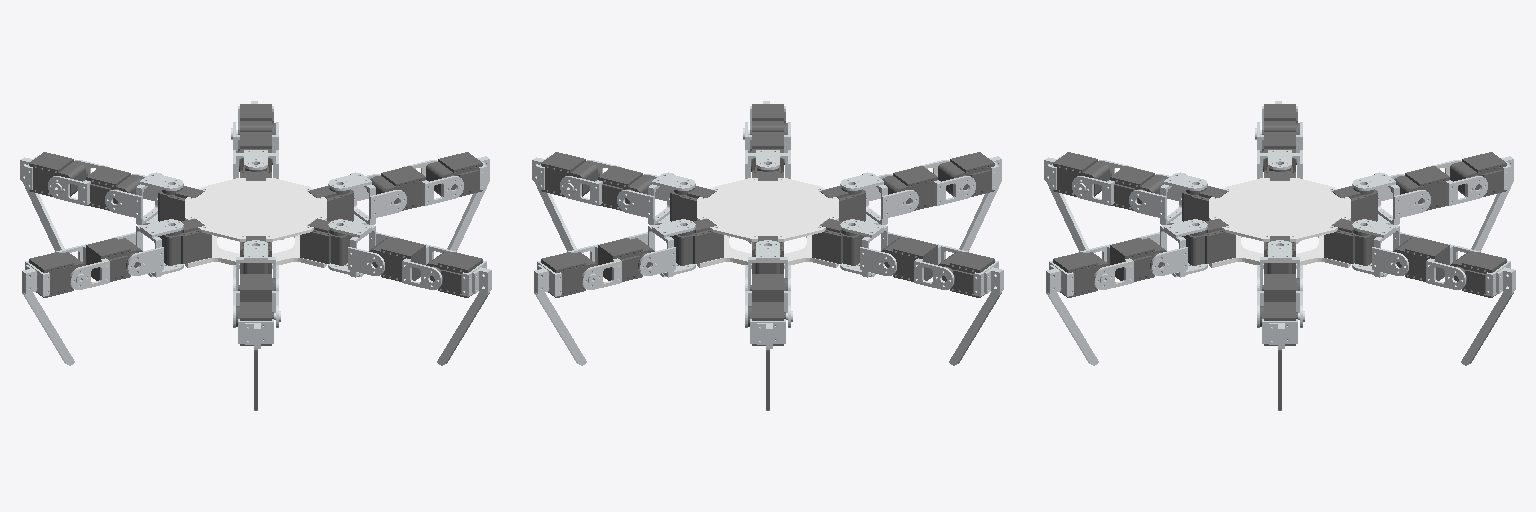
--- Facts derived from the render (not from the file) ---
3 views of the same robot in one strip: view 1: azimuth 30°, elevation 25°; view 2: azimuth 150°, elevation 25°; view 3: azimuth 270°, elevation 25° (orthographic).
Robot: Hexapod — 37 links, 36 joints (18 revolute, 18 fixed); root link Hexapod_Body; default pose: all joints at 0.
Visible links, largest first — view 1: Hexapod_Body, Leg_Six_Joint_One, Leg_Two_Joint_One, Leg_Three_Joint_One, Leg_Five_Joint_One, Leg_Five_Motor_One, Leg_Three_Motor_One, Leg_Three_Foot, Leg_Five_Foot, Leg_Two_Motor_Three, Leg_Six_Motor_Three, Leg_Three_Motor_Two (+21 smaller); view 2: Hexapod_Body, Leg_Two_Joint_One, Leg_Four_Joint_One, Leg_One_Joint_One, Leg_Five_Joint_One, Leg_One_Motor_One, Leg_Five_Motor_One, Leg_Five_Foot, Leg_One_Foot, Leg_Four_Motor_Three, Leg_Two_Motor_Three, Leg_Five_Motor_Two (+21 smaller); view 3: Hexapod_Body, Leg_Four_Joint_One, Leg_Six_Joint_One, Leg_One_Joint_One, Leg_Three_Joint_One, Leg_Three_Motor_One, Leg_One_Motor_One, Leg_One_Foot, Leg_Three_Foot, Leg_Six_Motor_Three, Leg_Four_Motor_Three, Leg_One_Motor_Two (+21 smaller).
Link boxes in pixels (<box>): Hexapod_Body: <box>185,178,326,268</box>; Leg_Six_Joint_One: <box>105,172,183,224</box>; Leg_Two_Joint_One: <box>328,172,406,224</box>; Leg_Three_Joint_One: <box>328,219,400,277</box>; Leg_Five_Joint_One: <box>111,219,183,277</box>; Leg_Five_Motor_One: <box>158,219,211,265</box>; Leg_Three_Motor_One: <box>300,219,353,265</box>; Leg_Three_Foot: <box>437,261,491,365</box>; Leg_Five_Foot: <box>22,261,74,365</box>; Leg_Two_Motor_Three: <box>426,152,482,196</box>; Leg_Six_Motor_Three: <box>29,152,87,196</box>; Leg_Three_Motor_Two: <box>369,238,425,281</box>; Hexapod_Body: <box>697,178,838,268</box>; Leg_Two_Joint_One: <box>617,172,695,224</box>; Leg_Four_Joint_One: <box>840,172,918,224</box>; Leg_One_Joint_One: <box>623,219,695,277</box>; Leg_Five_Joint_One: <box>840,219,912,277</box>; Leg_One_Motor_One: <box>670,219,723,265</box>; Leg_Five_Motor_One: <box>812,219,865,265</box>; Leg_Five_Foot: <box>949,261,1003,365</box>; Leg_One_Foot: <box>534,261,586,365</box>; Leg_Four_Motor_Three: <box>938,152,994,196</box>; Leg_Two_Motor_Three: <box>541,152,599,196</box>; Leg_Five_Motor_Two: <box>881,238,937,281</box>; Hexapod_Body: <box>1209,178,1350,268</box>; Leg_Four_Joint_One: <box>1129,172,1207,224</box>; Leg_Six_Joint_One: <box>1352,172,1430,224</box>; Leg_One_Joint_One: <box>1352,219,1424,277</box>; Leg_Three_Joint_One: <box>1135,219,1207,277</box>; Leg_Three_Motor_One: <box>1182,219,1235,265</box>; Leg_One_Motor_One: <box>1324,219,1377,265</box>; Leg_One_Foot: <box>1461,261,1515,365</box>; Leg_Three_Foot: <box>1046,261,1098,365</box>; Leg_Six_Motor_Three: <box>1450,152,1506,196</box>; Leg_Four_Motor_Three: <box>1053,152,1111,196</box>; Leg_One_Motor_Two: <box>1393,238,1449,281</box>.
Bounding box of the posed robot: 0.5546 × 0.4858 × 0.131 m (x, y, z).
37 mesh visuals loaded from 37 distinct referenced files (37 binary STL).

URDF robot description (Hexapod):
<?xml version="1.0" encoding="utf-8"?>
<!-- This URDF was automatically created by SolidWorks to URDF Exporter! Originally created by Stephen Brawner ([email redacted]) 
     Commit Version: 1.6.0-4-g7f85cfe  Build Version: 1.6.7995.38578
     For more information, please see http://wiki.ros.org/sw_urdf_exporter -->
<robot
  name="Hexapod">
  <link
    name="Hexapod_Body">
    <inertial>
      <origin
        xyz="0.000467300641731394 0.000480640804340723 -0.0222927088725361"
        rpy="0 0 0" />
      <mass
        value="0.252991709249718" />
      <inertia
        ixx="0.0003353228755392"
        ixy="-3.5624522231311E-06"
        ixz="9.13929498933835E-22"
        iyy="0.000331209310039199"
        iyz="-2.06880232664108E-21"
        izz="0.000662153479951832" />
    </inertial>
    <visual>
      <origin
        xyz="0 0 0"
        rpy="0 0 0" />
      <geometry>
        <mesh
          filename="package://Hexapod/meshes/Hexapod_Body.STL" />
      </geometry>
      <material
        name="a">
        <color
          rgba="1 1 1 1" />
      </material>
    </visual>
    <collision>
      <origin
        xyz="0 0 0"
        rpy="0 0 0" />
      <geometry>
        <mesh
          filename="package://Hexapod/meshes/Hexapod_Body.STL" />
      </geometry>
    </collision>
  </link>
  <link
    name="Leg_One_Motor_One">
    <inertial>
      <origin
        xyz="0.000584019854882684 0.0171270760121718 8.74251500962431E-06"
        rpy="0 0 0" />
      <mass
        value="0.0507410999571037" />
      <inertia
        ixx="8.72453812867062E-06"
        ixy="2.91404732674268E-07"
        ixz="4.76442069400232E-09"
        iyy="1.36174955983004E-05"
        iyz="4.99976360499878E-10"
        izz="1.50547493857864E-05" />
    </inertial>
    <visual>
      <origin
        xyz="0 0 0"
        rpy="0 0 0" />
      <geometry>
        <mesh
          filename="package://Hexapod/meshes/Leg_One_Motor_One.STL" />
      </geometry>
      <material
        name="b">
        <color
          rgba="0.501960784313725 0.501960784313725 0.501960784313725 1" />
      </material>
    </visual>
    <collision>
      <origin
        xyz="0 0 0"
        rpy="0 0 0" />
      <geometry>
        <mesh
          filename="package://Hexapod/meshes/Leg_One_Motor_One.STL" />
      </geometry>
    </collision>
  </link>
  <joint
    name="Body_Motor_One"
    type="fixed">
    <origin
      xyz="0.0430999999999997 0.0748245948869756 -0.035"
      rpy="1.5707963267949 0 -2.09439510239319" />
    <parent
      link="Hexapod_Body" />
    <child
      link="Leg_One_Motor_One" />
    <axis
      xyz="0 0 0" />
  </joint>
  <link
    name="Leg_One_Joint_One">
    <inertial>
      <origin
        xyz="-0.021 -0.0275000000000001 -2.77555756156289E-17"
        rpy="0 0 0" />
      <mass
        value="0.0389043786122597" />
      <inertia
        ixx="7.22067461734331E-06"
        ixy="-8.39372041984293E-23"
        ixz="-7.02883961008259E-22"
        iyy="6.08873929472342E-06"
        iyz="-1.69032215963396E-22"
        izz="7.22067461734331E-06" />
    </inertial>
    <visual>
      <origin
        xyz="0 0 0"
        rpy="0 0 0" />
      <geometry>
        <mesh
          filename="package://Hexapod/meshes/Leg_One_Joint_One.STL" />
      </geometry>
      <material
        name="c">
        <color
          rgba="0.898039215686275 0.917647058823529 0.929411764705882 1" />
      </material>
    </visual>
    <collision>
      <origin
        xyz="0 0 0"
        rpy="0 0 0" />
      <geometry>
        <mesh
          filename="package://Hexapod/meshes/Leg_One_Joint_One.STL" />
      </geometry>
    </collision>
  </link>
  <joint
    name="Motor_One_Joint_One"
    type="revolute">
    <origin
      xyz="-0.0135 0.037 0"
      rpy="3.14159265358979 0 1.5707963267949" />
    <parent
      link="Leg_One_Motor_One" />
    <child
      link="Leg_One_Joint_One" />
    <axis
      xyz="1 0 0" />
    <limit
      lower="-0.87"
      upper="0.87"
      effort="1.5"
      velocity="6" />
  </joint>
  <link
    name="Leg_One_Motor_Two">
    <inertial>
      <origin
        xyz="0.0140840198548827 -0.0198729239878282 8.74251500962431E-06"
        rpy="0 0 0" />
      <mass
        value="0.0507410999571037" />
      <inertia
        ixx="8.7245381286706E-06"
        ixy="2.91404732674267E-07"
        ixz="4.76442069400002E-09"
        iyy="1.36174955983004E-05"
        iyz="4.99976360499654E-10"
        izz="1.50547493857864E-05" />
    </inertial>
    <visual>
      <origin
        xyz="0 0 0"
        rpy="0 0 0" />
      <geometry>
        <mesh
          filename="package://Hexapod/meshes/Leg_One_Motor_Two.STL" />
      </geometry>
      <material
        name="d">
        <color
          rgba="0.501960784313725 0.501960784313725 0.501960784313725 1" />
      </material>
    </visual>
    <collision>
      <origin
        xyz="0 0 0"
        rpy="0 0 0" />
      <geometry>
        <mesh
          filename="package://Hexapod/meshes/Leg_One_Motor_Two.STL" />
      </geometry>
    </collision>
  </link>
  <joint
    name="Joint_One_Motor_One"
    type="revolute">
    <origin
      xyz="-0.021 -0.055 -0.021"
      rpy="-1.5707963267949 0 -1.5707963267949" />
    <parent
      link="Leg_One_Joint_One" />
    <child
      link="Leg_One_Motor_Two" />
    <axis
      xyz="0 -1 0" />
    <limit
      lower="-1.75"
      upper="1.75"
      effort="1.5"
      velocity="6" />
  </joint>
  <link
    name="Leg_One_Joint_Two">
    <inertial>
      <origin
        xyz="-0.0252678246613521 -0.00384428347669541 -3.60822483003176E-16"
        rpy="0 0 0" />
      <mass
        value="0.0208734115397715" />
      <inertia
        ixx="4.66379780614639E-06"
        ixy="-3.86041295515387E-22"
        ixz="-4.72913102230163E-23"
        iyy="1.08843805914059E-06"
        iyz="-1.67313754143348E-22"
        izz="3.74567124038541E-06" />
    </inertial>
    <visual>
      <origin
        xyz="0 0 0"
        rpy="0 0 0" />
      <geometry>
        <mesh
          filename="package://Hexapod/meshes/Leg_One_Joint_Two.STL" />
      </geometry>
      <material
        name="e">
        <color
          rgba="0.898039215686275 0.917647058823529 0.929411764705882 1" />
      </material>
    </visual>
    <collision>
      <origin
        xyz="0 0 0"
        rpy="0 0 0" />
      <geometry>
        <mesh
          filename="package://Hexapod/meshes/Leg_One_Joint_Two.STL" />
      </geometry>
    </collision>
  </link>
  <joint
    name="Motor_Two_Joint_One"
    type="fixed">
    <origin
      xyz="0.0505 -0.042 0"
      rpy="3.14159265358979 0 -1.5707963267949" />
    <parent
      link="Leg_One_Motor_Two" />
    <child
      link="Leg_One_Joint_Two" />
    <axis
      xyz="0 0 0" />
  </joint>
  <link
    name="Leg_One_Motor_Three">
    <inertial>
      <origin
        xyz="0.0140840198548827 -0.0198729239878282 8.74251500965206E-06"
        rpy="0 0 0" />
      <mass
        value="0.0507410999571036" />
      <inertia
        ixx="8.72453812867059E-06"
        ixy="2.91404732674268E-07"
        ixz="4.76442069399796E-09"
        iyy="1.36174955983004E-05"
        iyz="4.99976360499304E-10"
        izz="1.50547493857863E-05" />
    </inertial>
    <visual>
      <origin
        xyz="0 0 0"
        rpy="0 0 0" />
      <geometry>
        <mesh
          filename="package://Hexapod/meshes/Leg_One_Motor_Three.STL" />
      </geometry>
      <material
        name="f">
        <color
          rgba="0.501960784313725 0.501960784313725 0.501960784313725 1" />
      </material>
    </visual>
    <collision>
      <origin
        xyz="0 0 0"
        rpy="0 0 0" />
      <geometry>
        <mesh
          filename="package://Hexapod/meshes/Leg_One_Motor_Three.STL" />
      </geometry>
    </collision>
  </link>
  <joint
    name="Joint_Two_Motor_One"
    type="revolute">
    <origin
      xyz="0 -0.0175 0"
      rpy="0 0 -1.5707963267949" />
    <parent
      link="Leg_One_Joint_Two" />
    <child
      link="Leg_One_Motor_Three" />
    <axis
      xyz="0 1 0" />
    <limit
      lower="-1.2"
      upper="1.75"
      effort="1.5"
      velocity="6" />
  </joint>
  <link
    name="Leg_One_Foot">
    <inertial>
      <origin
        xyz="7.01124950652221E-05 -0.0388270396002833 0.00702654358929466"
        rpy="0 0 0" />
      <mass
        value="0.0294537667841514" />
      <inertia
        ixx="2.35841025364992E-05"
        ixy="-3.24513193999939E-21"
        ixz="-4.96335868122319E-08"
        iyy="6.39638877905909E-06"
        iyz="8.96077570377951E-06"
        izz="2.04496277534295E-05" />
    </inertial>
    <visual>
      <origin
        xyz="0 0 0"
        rpy="0 0 0" />
      <geometry>
        <mesh
          filename="package://Hexapod/meshes/Leg_One_Foot.STL" />
      </geometry>
      <material
        name="g">
        <color
          rgba="0.898039215686275 0.917647058823529 0.929411764705882 1" />
      </material>
    </visual>
    <collision>
      <origin
        xyz="0 0 0"
        rpy="0 0 0" />
      <geometry>
        <mesh
          filename="package://Hexapod/meshes/Leg_One_Foot.STL" />
      </geometry>
    </collision>
  </link>
  <joint
    name="Motor_Three_Foot_One"
    type="fixed">
    <origin
      xyz="0.0415 -0.021 -0.0125"
      rpy="-1.5708 0 1.5708" />
    <parent
      link="Leg_One_Motor_Three" />
    <child
      link="Leg_One_Foot" />
    <axis
      xyz="0 0 0" />
  </joint>
  <link
    name="Leg_Two_Motor_One">
    <inertial>
      <origin
        xyz="0.000584019854882684 0.0171270760121718 8.74251500965206E-06"
        rpy="0 0 0" />
      <mass
        value="0.0507410999571037" />
      <inertia
        ixx="8.72453812867061E-06"
        ixy="2.91404732674266E-07"
        ixz="4.76442069400188E-09"
        iyy="1.36174955983004E-05"
        iyz="4.9997636050019E-10"
        izz="1.50547493857864E-05" />
    </inertial>
    <visual>
      <origin
        xyz="0 0 0"
        rpy="0 0 0" />
      <geometry>
        <mesh
          filename="package://Hexapod/meshes/Leg_Two_Motor_One.STL" />
      </geometry>
      <material
        name="b">
        <color
          rgba="0.501960784313725 0.501960784313725 0.501960784313725 1" />
      </material>
    </visual>
    <collision>
      <origin
        xyz="0 0 0"
        rpy="0 0 0" />
      <geometry>
        <mesh
          filename="package://Hexapod/meshes/Leg_Two_Motor_One.STL" />
      </geometry>
    </collision>
  </link>
  <joint
    name="Body_Motor_Two"
    type="fixed">
    <origin
      xyz="0.08625 8.66025403784415E-05 -0.035"
      rpy="1.5707963267949 0 3.14159265358979" />
    <parent
      link="Hexapod_Body" />
    <child
      link="Leg_Two_Motor_One" />
    <axis
      xyz="0 0 0" />
  </joint>
  <link
    name="Leg_Two_Joint_One">
    <inertial>
      <origin
        xyz="-0.021 -0.0275 1.38777878078145E-17"
        rpy="0 0 0" />
      <mass
        value="0.0389043786122597" />
      <inertia
        ixx="7.2206746173433E-06"
        ixy="-1.02503950253765E-21"
        ixz="3.59151891736246E-22"
        iyy="6.08873929472342E-06"
        iyz="-1.05879118406788E-21"
        izz="7.2206746173433E-06" />
    </inertial>
    <visual>
      <origin
        xyz="0 0 0"
        rpy="0 0 0" />
      <geometry>
        <mesh
          filename="package://Hexapod/meshes/Leg_Two_Joint_One.STL" />
      </geometry>
      <material
        name="c">
        <color
          rgba="0.898039215686275 0.917647058823529 0.929411764705882 1" />
      </material>
    </visual>
    <collision>
      <origin
        xyz="0 0 0"
        rpy="0 0 0" />
      <geometry>
        <mesh
          filename="package://Hexapod/meshes/Leg_Two_Joint_One.STL" />
      </geometry>
    </collision>
  </link>
  <joint
    name="Motor_One_Joint_Two"
    type="revolute">
    <origin
      xyz="-0.0135 0.037 0"
      rpy="3.14159265358979 0 1.5707963267949" />
    <parent
      link="Leg_Two_Motor_One" />
    <child
      link="Leg_Two_Joint_One" />
    <axis
      xyz="1 0 0" />
    <limit
      lower="-0.87"
      upper="0.87"
      effort="1.5"
      velocity="6" />
  </joint>
  <link
    name="Leg_Two_Motor_Two">
    <inertial>
      <origin
        xyz="0.0140840198548827 -0.0198729239878281 8.74251500963819E-06"
        rpy="0 0 0" />
      <mass
        value="0.0507410999571037" />
      <inertia
        ixx="8.7245381286706E-06"
        ixy="2.91404732674251E-07"
        ixz="4.76442069400182E-09"
        iyy="1.36174955983004E-05"
        iyz="4.99976360499683E-10"
        izz="1.50547493857863E-05" />
    </inertial>
    <visual>
      <origin
        xyz="0 0 0"
        rpy="0 0 0" />
      <geometry>
        <mesh
          filename="package://Hexapod/meshes/Leg_Two_Motor_Two.STL" />
      </geometry>
      <material
        name="d">
        <color
          rgba="0.501960784313725 0.501960784313725 0.501960784313725 1" />
      </material>
    </visual>
    <collision>
      <origin
        xyz="0 0 0"
        rpy="0 0 0" />
      <geometry>
        <mesh
          filename="package://Hexapod/meshes/Leg_Two_Motor_Two.STL" />
      </geometry>
    </collision>
  </link>
  <joint
    name="Joint_One_Motor_Two"
    type="revolute">
    <origin
      xyz="-0.021 -0.055 -0.021"
      rpy="-1.5707963267949 0 -1.5707963267949" />
    <parent
      link="Leg_Two_Joint_One" />
    <child
      link="Leg_Two_Motor_Two" />
    <axis
      xyz="0 -1 0" />
    <limit
      lower="-1.75"
      upper="1.75"
      effort="1.5"
      velocity="6" />
  </joint>
  <link
    name="Leg_Two_Joint_Two">
    <inertial>
      <origin
        xyz="-0.016732175338648 0.00384428347669485 -2.1094237467878E-15"
        rpy="0 0 0" />
      <mass
        value="0.0208734115397716" />
      <inertia
        ixx="4.66379780614641E-06"
        ixy="-2.01170324972896E-21"
        ixz="-8.93614464730896E-22"
        iyy="1.0884380591406E-06"
        iyz="1.28970696947256E-20"
        izz="3.74567124038542E-06" />
    </inertial>
    <visual>
      <origin
        xyz="0 0 0"
        rpy="0 0 0" />
      <geometry>
        <mesh
          filename="package://Hexapod/meshes/Leg_Two_Joint_Two.STL" />
      </geometry>
      <material
        name="e">
        <color
          rgba="0.898039215686275 0.917647058823529 0.929411764705882 1" />
      </material>
    </visual>
    <collision>
      <origin
        xyz="0 0 0"
        rpy="0 0 0" />
      <geometry>
        <mesh
          filename="package://Hexapod/meshes/Leg_Two_Joint_Two.STL" />
      </geometry>
    </collision>
  </link>
  <joint
    name="Motor_Two_Joint_Two"
    type="fixed">
    <origin
      xyz="0.0505000000000004 0 0"
      rpy="-3.14159265358979 0 1.5707963267949" />
    <parent
      link="Leg_Two_Motor_Two" />
    <child
      link="Leg_Two_Joint_Two" />
    <axis
      xyz="0 0 0" />
  </joint>
  <link
    name="Leg_Two_Motor_Three">
    <inertial>
      <origin
        xyz="0.0140840198548827 -0.0198729239878282 8.74251500963819E-06"
        rpy="0 0 0" />
      <mass
        value="0.0507410999571037" />
      <inertia
        ixx="8.72453812867061E-06"
        ixy="2.91404732674272E-07"
        ixz="4.7644206939968E-09"
        iyy="1.36174955983004E-05"
        iyz="4.9997636050038E-10"
        izz="1.50547493857864E-05" />
    </inertial>
    <visual>
      <origin
        xyz="0 0 0"
        rpy="0 0 0" />
      <geometry>
        <mesh
          filename="package://Hexapod/meshes/Leg_Two_Motor_Three.STL" />
      </geometry>
      <material
        name="f">
        <color
          rgba="0.501960784313725 0.501960784313725 0.501960784313725 1" />
      </material>
    </visual>
    <collision>
      <origin
        xyz="0 0 0"
        rpy="0 0 0" />
      <geometry>
        <mesh
          filename="package://Hexapod/meshes/Leg_Two_Motor_Three.STL" />
      </geometry>
    </collision>
  </link>
  <joint
    name="Joint_Two_Motor_Two"
    type="revolute">
    <origin
      xyz="-0.0419999999999999 0.0174999999999996 0"
      rpy="0 0 1.5707963267949" />
    <parent
      link="Leg_Two_Joint_Two" />
    <child
      link="Leg_Two_Motor_Three" />
    <axis
      xyz="0 1 0" />
    <limit
      lower="-1.2"
      upper="1.75"
      effort="1.5"
      velocity="6" />
  </joint>
  <link
    name="Leg_Two_Foot">
    <inertial>
      <origin
        xyz="0.00557011249506531 -0.0148270396002834 0.00702654358929461"
        rpy="0 0 0" />
      <mass
        value="0.0294537667841514" />
      <inertia
        ixx="2.35841025364993E-05"
        ixy="2.37169225231204E-20"
        ixz="-4.96335868122461E-08"
        iyy="6.39638877905909E-06"
        iyz="8.96077570377951E-06"
        izz="2.04496277534295E-05" />
    </inertial>
    <visual>
      <origin
        xyz="0 0 0"
        rpy="0 0 0" />
      <geometry>
        <mesh
          filename="package://Hexapod/meshes/Leg_Two_Foot.STL" />
      </geometry>
      <material
        name="g">
        <color
          rgba="0.898039215686275 0.917647058823529 0.929411764705882 1" />
      </material>
    </visual>
    <collision>
      <origin
        xyz="0 0 0"
        rpy="0 0 0" />
      <geometry>
        <mesh
          filename="package://Hexapod/meshes/Leg_Two_Foot.STL" />
      </geometry>
    </collision>
  </link>
  <joint
    name="Motor_Three_Foot_Two"
    type="fixed">
    <origin
      xyz="0.0415 -0.0265 0.0115"
      rpy="-1.5708 0 1.5708" />
    <parent
      link="Leg_Two_Motor_Three" />
    <child
      link="Leg_Two_Foot" />
    <axis
      xyz="0 0 0" />
  </joint>
  <link
    name="Leg_Three_Motor_One">
    <inertial>
      <origin
        xyz="0.000584019854882684 0.0171270760121718 8.74251500963819E-06"
        rpy="0 0 0" />
      <mass
        value="0.0507410999571037" />
      <inertia
        ixx="8.7245381286706E-06"
        ixy="2.91404732674265E-07"
        ixz="4.76442069399277E-09"
        iyy="1.36174955983004E-05"
        iyz="4.9997636050019E-10"
        izz="1.50547493857863E-05" />
    </inertial>
    <visual>
      <origin
        xyz="0 0 0"
        rpy="0 0 0" />
      <geometry>
        <mesh
          filename="package://Hexapod/meshes/Leg_Three_Motor_One.STL" />
      </geometry>
      <material
        name="b">
        <color
          rgba="0.501960784313725 0.501960784313725 0.501960784313725 1" />
      </material>
    </visual>
    <collision>
      <origin
        xyz="0 0 0"
        rpy="0 0 0" />
      <geometry>
        <mesh
          filename="package://Hexapod/meshes/Leg_Three_Motor_One.STL" />
      </geometry>
    </collision>
  </link>
  <joint
    name="Body_Motor_Three"
    type="fixed">
    <origin
      xyz="0.0430999999999998 -0.0746513898062187 -0.035"
      rpy="1.5707963267949 0 2.09439510239319" />
    <parent
      link="Hexapod_Body" />
    <child
      link="Leg_Three_Motor_One" />
    <axis
      xyz="0 0 0" />
  </joint>
  <link
    name="Leg_Three_Joint_One">
    <inertial>
      <origin
        xyz="-0.021 -0.0274999999999999 1.2490009027033E-16"
        rpy="0 0 0" />
      <mass
        value="0.0389043786122597" />
      <inertia
        ixx="7.22067461734331E-06"
        ixy="1.10828261625725E-21"
        ixz="-4.62402341941E-22"
        iyy="6.08873929472343E-06"
        iyz="1.48230765769503E-21"
        izz="7.22067461734331E-06" />
    </inertial>
    <visual>
      <origin
        xyz="0 0 0"
        rpy="0 0 0" />
      <geometry>
        <mesh
          filename="package://Hexapod/meshes/Leg_Three_Joint_One.STL" />
      </geometry>
      <material
        name="c">
        <color
          rgba="0.898039215686275 0.917647058823529 0.929411764705882 1" />
      </material>
    </visual>
    <collision>
      <origin
        xyz="0 0 0"
        rpy="0 0 0" />
      <geometry>
        <mesh
          filename="package://Hexapod/meshes/Leg_Three_Joint_One.STL" />
      </geometry>
    </collision>
  </link>
  <joint
    name="Motor_One_Joint_Three"
    type="revolute">
    <origin
      xyz="-0.0135 0.037 0"
      rpy="3.14159265358979 0 1.5707963267949" />
    <parent
      link="Leg_Three_Motor_One" />
    <child
      link="Leg_Three_Joint_One" />
    <axis
      xyz="1 0 0" />
    <limit
      lower="-0.87"
      upper="0.87"
      effort="1.5"
      velocity="6" />
  </joint>
  <link
    name="Leg_Three_Motor_Two">
    <inertial>
      <origin
        xyz="0.0140840198548827 -0.0198729239878281 8.74251500965206E-06"
        rpy="0 0 0" />
      <mass
        value="0.0507410999571037" />
      <inertia
        ixx="8.72453812867062E-06"
        ixy="2.91404732674259E-07"
        ixz="4.76442069399944E-09"
        iyy="1.36174955983004E-05"
        iyz="4.99976360500253E-10"
        izz="1.50547493857864E-05" />
    </inertial>
    <visual>
      <origin
        xyz="0 0 0"
        rpy="0 0 0" />
      <geometry>
        <mesh
          filename="package://Hexapod/meshes/Leg_Three_Motor_Two.STL" />
      </geometry>
      <material
        name="d">
        <color
          rgba="0.501960784313725 0.501960784313725 0.501960784313725 1" />
      </material>
    </visual>
    <collision>
      <origin
        xyz="0 0 0"
        rpy="0 0 0" />
      <geometry>
        <mesh
          filename="package://Hexapod/meshes/Leg_Three_Motor_Two.STL" />
      </geometry>
    </collision>
  </link>
  <joint
    name="Joint_One_Motor_Three"
    type="revolute">
    <origin
      xyz="-0.021 -0.055 -0.0209999999999999"
      rpy="-1.5707963267949 0 -1.5707963267949" />
    <parent
      link="Leg_Three_Joint_One" />
    <child
      link="Leg_Three_Motor_Two" />
    <axis
      xyz="0 -1 0" />
    <limit
      lower="-1.75"
      upper="1.75"
      effort="1.5"
      velocity="6" />
  </joint>
  <link
    name="Leg_Three_Joint_Two">
    <inertial>
      <origin
        xyz="-0.0167321753386479 0.00384428347669552 1.38777878078145E-17"
        rpy="0 0 0" />
      <mass
        value="0.0208734115397715" />
      <inertia
        ixx="4.66379780614638E-06"
        ixy="4.12928561786471E-21"
        ixz="3.19034291935014E-22"
        iyy="1.08843805914059E-06"
        iyz="-2.95519551277004E-21"
        izz="3.7456712403854E-06" />
    </inertial>
    <visual>
      <origin
        xyz="0 0 0"
        rpy="0 0 0" />
      <geometry>
        <mesh
          filename="package://Hexapod/meshes/Leg_Three_Joint_Two.STL" />
      </geometry>
      <material
        name="e">
        <color
          rgba="0.898039215686275 0.917647058823529 0.929411764705882 1" />
      </material>
    </visual>
    <collision>
      <origin
        xyz="0 0 0"
        rpy="0 0 0" />
      <geometry>
        <mesh
          filename="package://Hexapod/meshes/Leg_Three_Joint_Two.STL" />
      </geometry>
    </collision>
  </link>
  <joint
    name="Motor_Two_Joint_Three"
    type="fixed">
    <origin
      xyz="0.0505 0 0"
      rpy="3.14159265358979 0 1.5707963267949" />
    <parent
      link="Leg_Three_Motor_Two" />
    <child
      link="Leg_Three_Joint_Two" />
    <axis
      xyz="0 0 0" />
  </joint>
  <link
    name="Leg_Three_Motor_Three">
    <inertial>
      <origin
        xyz="0.0140840198548827 -0.0198729239878282 8.74251500962431E-06"
        rpy="0 0 0" />
      <mass
        value="0.0507410999571037" />
      <inertia
        ixx="8.7245381286706E-06"
        ixy="2.91404732674273E-07"
        ixz="4.76442069399899E-09"
        iyy="1.36174955983004E-05"
        iyz="4.99976360498285E-10"
        izz="1.50547493857863E-05" />
    </inertial>
    <visual>
      <origin
        xyz="0 0 0"
        rpy="0 0 0" />
      <geometry>
        <mesh
          filename="package://Hexapod/meshes/Leg_Three_Motor_Three.STL" />
      </geometry>
      <material
        name="f">
        <color
          rgba="0.501960784313725 0.501960784313725 0.501960784313725 1" />
      </material>
    </visual>
    <collision>
      <origin
        xyz="0 0 0"
        rpy="0 0 0" />
      <geometry>
        <mesh
          filename="package://Hexapod/meshes/Leg_Three_Motor_Three.STL" />
      </geometry>
    </collision>
  </link>
  <joint
    name="Joint_Two_Motor_Three"
    type="revolute">
    <origin
      xyz="-0.042 0.0175000000000001 0"
      rpy="0 0 1.5707963267949" />
    <parent
      link="Leg_Three_Joint_Two" />
    <child
      link="Leg_Three_Motor_Three" />
    <axis
      xyz="0 1 0" />
    <limit
      lower="-1.2"
      upper="1.75"
      effort="1.5"
      velocity="6" />
  </joint>
  <link
    name="Leg_Three_Foot">
    <inertial>
      <origin
        xyz="7.0112E-05 0.038827 -0.0070265"
        rpy="0 0 0" />
      <mass
        value="0.029454" />
      <inertia
        ixx="2.3584E-05"
        ixy="-1.5247E-20"
        ixz="4.9634E-08"
        iyy="6.3964E-06"
        iyz="8.9608E-06"
        izz="2.045E-05" />
    </inertial>
    <visual>
      <origin
        xyz="0 0 0"
        rpy="0 0 0" />
      <geometry>
        <mesh
          filename="package://Hexapod/meshes/Leg_Three_Foot.STL" />
      </geometry>
      <material
        name="g">
        <color
          rgba="0.89804 0.91765 0.92941 1" />
      </material>
    </visual>
    <collision>
      <origin
        xyz="0 0 0"
        rpy="0 0 0" />
      <geometry>
        <mesh
          filename="package://Hexapod/meshes/Leg_Three_Foot.STL" />
      </geometry>
    </collision>
  </link>
  <joint
    name="Motor_Three_Foot_Three"
    type="fixed">
    <origin
      xyz="0.0415 -0.021 -0.0125"
      rpy="1.5708 0 1.5708" />
    <parent
      link="Leg_Three_Motor_Three" />
    <child
      link="Leg_Three_Foot" />
    <axis
      xyz="0 0 0" />
  </joint>
  <link
    name="Leg_Four_Motor_One">
    <inertial>
      <origin
        xyz="0.000584019854882694 0.0171270760121718 8.74251500965206E-06"
        rpy="0 0 0" />
      <mass
        value="0.0507410999571037" />
      <inertia
        ixx="8.72453812867061E-06"
        ixy="2.91404732674264E-07"
        ixz="4.76442069399891E-09"
        iyy="1.36174955983004E-05"
        iyz="4.99976360500343E-10"
        izz="1.50547493857864E-05" />
    </inertial>
    <visual>
      <origin
        xyz="0 0 0"
        rpy="0 0 0" />
      <geometry>
        <mesh
          filename="package://Hexapod/meshes/Leg_Four_Motor_One.STL" />
      </geometry>
      <material
        name="b">
        <color
          rgba="0.501960784313725 0.501960784313725 0.501960784313725 1" />
      </material>
    </visual>
    <collision>
      <origin
        xyz="0 0 0"
        rpy="0 0 0" />
      <geometry>
        <mesh
          filename="package://Hexapod/meshes/Leg_Four_Motor_One.STL" />
      </geometry>
    </collision>
  </link>
  <joint
    name="Body_Motor_Four"
    type="fixed">
    <origin
      xyz="-0.0432 -0.074651 -0.035"
      rpy="1.5708 0 1.0472" />
    <parent
      link="Hexapod_Body" />
    <child
      link="Leg_Four_Motor_One" />
    <axis
      xyz="0 0 0" />
  </joint>
  <link
    name="Leg_Four_Joint_One">
    <inertial>
      <origin
        xyz="-0.021 -0.0275 5.55111512312578E-17"
        rpy="0 0 0" />
      <mass
        value="0.0389043786122597" />
      <inertia
        ixx="7.2206746173433E-06"
        ixy="-4.67620538149658E-22"
        ixz="-2.04987134371332E-22"
        iyy="6.0887392947234E-06"
        iyz="2.04671557842792E-22"
        izz="7.2206746173433E-06" />
    </inertial>
    <visual>
      <origin
        xyz="0 0 0"
        rpy="0 0 0" />
      <geometry>
        <mesh
          filename="package://Hexapod/meshes/Leg_Four_Joint_One.STL" />
      </geometry>
      <material
        name="c">
        <color
          rgba="0.898039215686275 0.917647058823529 0.929411764705882 1" />
      </material>
    </visual>
    <collision>
      <origin
        xyz="0 0 0"
        rpy="0 0 0" />
      <geometry>
        <mesh
          filename="package://Hexapod/meshes/Leg_Four_Joint_One.STL" />
      </geometry>
    </collision>
  </link>
  <joint
    name="Motor_One_Joint_Four"
    type="revolute">
    <origin
      xyz="-0.0135 0.037 0"
      rpy="3.1416 0 1.5708" />
    <parent
      link="Leg_Four_Motor_One" />
    <child
      link="Leg_Four_Joint_One" />
    <axis
      xyz="1 0 0" />
    <limit
      lower="-0.87"
      upper="0.87"
      effort="1.5"
      velocity="6" />
  </joint>
  <link
    name="Leg_Four_Motor_Two">
    <inertial>
      <origin
        xyz="0.0140840198548827 -0.0198729239878282 8.74251500965206E-06"
        rpy="0 0 0" />
      <mass
        value="0.0507410999571037" />
      <inertia
        ixx="8.72453812867061E-06"
        ixy="2.91404732674264E-07"
        ixz="4.76442069400053E-09"
        iyy="1.36174955983004E-05"
        iyz="4.9997636049962E-10"
        izz="1.50547493857864E-05" />
    </inertial>
    <visual>
      <origin
        xyz="0 0 0"
        rpy="0 0 0" />
      <geometry>
        <mesh
          filename="package://Hexapod/meshes/Leg_Four_Motor_Two.STL" />
      </geometry>
      <material
        name="d">
        <color
          rgba="0.501960784313725 0.501960784313725 0.501960784313725 1" />
      </material>
    </visual>
    <collision>
      <origin
        xyz="0 0 0"
        rpy="0 0 0" />
      <geometry>
        <mesh
          filename="package://Hexapod/meshes/Leg_Four_Motor_Two.STL" />
      </geometry>
    </collision>
  </link>
  <joint
    name="Joint_One_Motor_Four"
    type="revolute">
    <origin
      xyz="-0.021 -0.055 -0.021"
      rpy="-1.5708 0 -1.5708" />
    <parent
      link="Leg_Four_Joint_One" />
    <child
      link="Leg_Four_Motor_Two" />
    <axis
      xyz="0 -1 0" />
    <limit
      lower="-1.75"
      upper="1.75"
      effort="1.5"
      velocity="6" />
  </joint>
  <link
    name="Leg_Four_Joint_Two">
    <inertial>
      <origin
        xyz="-0.0167321753386479 0.00384428347669546 -2.77555756156289E-17"
        rpy="0 0 0" />
      <mass
        value="0.0208734115397715" />
      <inertia
        ixx="4.6637978061464E-06"
        ixy="-1.13132493400947E-21"
        ixz="-1.2362970713267E-22"
        iyy="1.08843805914059E-06"
        iyz="1.84112247516701E-21"
        izz="3.74567124038541E-06" />
    </inertial>
    <visual>
      <origin
        xyz="0 0 0"
        rpy="0 0 0" />
      <geometry>
        <mesh
          filename="package://Hexapod/meshes/Leg_Four_Joint_Two.STL" />
      </geometry>
      <material
        name="e">
        <color
          rgba="0.898039215686275 0.917647058823529 0.929411764705882 1" />
      </material>
    </visual>
    <collision>
      <origin
        xyz="0 0 0"
        rpy="0 0 0" />
      <geometry>
        <mesh
          filename="package://Hexapod/meshes/Leg_Four_Joint_Two.STL" />
      </geometry>
    </collision>
  </link>
  <joint
    name="Motor_Two_Joint_Four"
    type="fixed">
    <origin
      xyz="0.0505 0 0"
      rpy="3.1416 0 1.5708" />
    <parent
      link="Leg_Four_Motor_Two" />
    <child
      link="Leg_Four_Joint_Two" />
    <axis
      xyz="0 0 0" />
  </joint>
  <link
    name="Leg_Four_Motor_Three">
    <inertial>
      <origin
        xyz="0.0140840198548827 -0.0198729239878282 8.74251500962431E-06"
        rpy="0 0 0" />
      <mass
        value="0.0507410999571037" />
      <inertia
        ixx="8.7245381286706E-06"
        ixy="2.91404732674265E-07"
        ixz="4.76442069399781E-09"
        iyy="1.36174955983004E-05"
        iyz="4.99976360501757E-10"
        izz="1.50547493857864E-05" />
    </inertial>
    <visual>
      <origin
        xyz="0 0 0"
        rpy="0 0 0" />
      <geometry>
        <mesh
          filename="package://Hexapod/meshes/Leg_Four_Motor_Three.STL" />
      </geometry>
      <material
        name="f">
        <color
          rgba="0.501960784313725 0.501960784313725 0.501960784313725 1" />
      </material>
    </visual>
    <collision>
      <origin
        xyz="0 0 0"
        rpy="0 0 0" />
      <geometry>
        <mesh
          filename="package://Hexapod/meshes/Leg_Four_Motor_Three.STL" />
      </geometry>
    </collision>
  </link>
  <joint
    name="Joint_Two_Motor_Four"
    type="revolute">
    <origin
      xyz="-0.042 0.0175 0"
      rpy="0 0 1.5708" />
    <parent
      link="Leg_Four_Joint_Two" />
    <child
      link="Leg_Four_Motor_Three" />
    <axis
      xyz="0 1 0" />
    <limit
      lower="-1.2"
      upper="1.75"
      effort="1.5"
      velocity="6" />
  </joint>
  <link
    name="Leg_Four_Foot">
    <inertial>
      <origin
        xyz="7.0112E-05 0.038827 -0.0070265"
        rpy="0 0 0" />
      <mass
        value="0.029454" />
      <inertia
        ixx="2.3584E-05"
        ixy="-6.9798E-22"
        ixz="4.9634E-08"
        iyy="6.3964E-06"
        iyz="8.9608E-06"
        izz="2.045E-05" />
    </inertial>
    <visual>
      <origin
        xyz="0 0 0"
        rpy="0 0 0" />
      <geometry>
        <mesh
          filename="package://Hexapod/meshes/Leg_Four_Foot.STL" />
      </geometry>
      <material
        name="g">
        <color
          rgba="0.89804 0.91765 0.92941 1" />
      </material>
    </visual>
    <collision>
      <origin
        xyz="0 0 0"
        rpy="0 0 0" />
      <geometry>
        <mesh
          filename="package://Hexapod/meshes/Leg_Four_Foot.STL" />
      </geometry>
    </collision>
  </link>
  <joint
    name="Motor_Three_Foot_Four"
    type="fixed">
    <origin
      xyz="0.0415 -0.021 -0.0125"
      rpy="1.5708 0 1.5708" />
    <parent
      link="Leg_Four_Motor_Three" />
    <child
      link="Leg_Four_Foot" />
    <axis
      xyz="0 0 0" />
  </joint>
  <link
    name="Leg_Five_Motor_One">
    <inertial>
      <origin
        xyz="0.000584019854882697 0.0171270760121718 8.74251500964512E-06"
        rpy="0 0 0" />
      <mass
        value="0.0507410999571037" />
      <inertia
        ixx="8.72453812867061E-06"
        ixy="2.91404732674265E-07"
        ixz="4.76442069399912E-09"
        iyy="1.36174955983004E-05"
        iyz="4.99976360499687E-10"
        izz="1.50547493857864E-05" />
    </inertial>
    <visual>
      <origin
        xyz="0 0 0"
        rpy="0 0 0" />
      <geometry>
        <mesh
          filename="package://Hexapod/meshes/Leg_Five_Motor_One.STL" />
      </geometry>
      <material
        name="b">
        <color
          rgba="0.501960784313725 0.501960784313725 0.501960784313725 1" />
      </material>
    </visual>
    <collision>
      <origin
        xyz="0 0 0"
        rpy="0 0 0" />
      <geometry>
        <mesh
          filename="package://Hexapod/meshes/Leg_Five_Motor_One.STL" />
      </geometry>
    </collision>
  </link>
  <joint
    name="Body_Motor_Five"
    type="fixed">
    <origin
      xyz="-0.08635 8.6603E-05 -0.035"
      rpy="1.5708 0 0" />
    <parent
      link="Hexapod_Body" />
    <child
      link="Leg_Five_Motor_One" />
    <axis
      xyz="0 0 0" />
  </joint>
  <link
    name="Leg_Five_Joint_One">
    <inertial>
      <origin
        xyz="-0.021 -0.0275 0"
        rpy="0 0 0" />
      <mass
        value="0.0389043786122597" />
      <inertia
        ixx="7.2206746173433E-06"
        ixy="-1.18571260472017E-21"
        ixz="-2.57849577796333E-22"
        iyy="6.0887392947234E-06"
        iyz="6.35274710440725E-22"
        izz="7.2206746173433E-06" />
    </inertial>
    <visual>
      <origin
        xyz="0 0 0"
        rpy="0 0 0" />
      <geometry>
        <mesh
          filename="package://Hexapod/meshes/Leg_Five_Joint_One.STL" />
      </geometry>
      <material
        name="c">
        <color
          rgba="0.898039215686275 0.917647058823529 0.929411764705882 1" />
      </material>
    </visual>
    <collision>
      <origin
        xyz="0 0 0"
        rpy="0 0 0" />
      <geometry>
        <mesh
          filename="package://Hexapod/meshes/Leg_Five_Joint_One.STL" />
      </geometry>
    </collision>
  </link>
  <joint
    name="Motor_One_Joint_Five"
    type="revolute">
    <origin
      xyz="-0.0135 0.037 0"
      rpy="3.1416 0 1.5708" />
    <parent
      link="Leg_Five_Motor_One" />
    <child
      link="Leg_Five_Joint_One" />
    <axis
      xyz="1 0 0" />
    <limit
      lower="-0.87"
      upper="0.87"
      effort="1.5"
      velocity="6" />
  </joint>
  <link
    name="Leg_Five_Motor_Two">
    <inertial>
      <origin
        xyz="0.0140840198548827 -0.0198729239878282 8.74251500965206E-06"
        rpy="0 0 0" />
      <mass
        value="0.0507410999571037" />
      <inertia
        ixx="8.72453812867059E-06"
        ixy="2.91404732674268E-07"
        ixz="4.76442069399922E-09"
        iyy="1.36174955983004E-05"
        iyz="4.99976360500544E-10"
        izz="1.50547493857863E-05" />
    </inertial>
    <visual>
      <origin
        xyz="0 0 0"
        rpy="0 0 0" />
      <geometry>
        <mesh
          filename="package://Hexapod/meshes/Leg_Five_Motor_Two.STL" />
      </geometry>
      <material
        name="d">
        <color
          rgba="0.501960784313725 0.501960784313725 0.501960784313725 1" />
      </material>
    </visual>
    <collision>
      <origin
        xyz="0 0 0"
        rpy="0 0 0" />
      <geometry>
        <mesh
          filename="package://Hexapod/meshes/Leg_Five_Motor_Two.STL" />
      </geometry>
    </collision>
  </link>
  <joint
    name="Joint_One_Motor_Five"
    type="revolute">
    <origin
      xyz="-0.021 -0.055 -0.021"
      rpy="-1.5708 0 -1.5708" />
    <parent
      link="Leg_Five_Joint_One" />
    <child
      link="Leg_Five_Motor_Two" />
    <axis
      xyz="0 -1 0" />
    <limit
      lower="-1.75"
      upper="1.75"
      effort="1.5"
      velocity="6" />
  </joint>
  <link
    name="Leg_Five_Joint_Two">
    <inertial>
      <origin
        xyz="-0.0252678246613521 0.0038442834766955 -1.38777878078145E-17"
        rpy="0 0 0" />
      <mass
        value="0.0208734115397715" />
      <inertia
        ixx="4.66379780614639E-06"
        ixy="-8.470329472543E-22"
        ixz="1.35056924056985E-22"
        iyy="1.08843805914059E-06"
        iyz="8.44322036937849E-22"
        izz="3.74567124038541E-06" />
    </inertial>
    <visual>
      <origin
        xyz="0 0 0"
        rpy="0 0 0" />
      <geometry>
        <mesh
          filename="package://Hexapod/meshes/Leg_Five_Joint_Two.STL" />
      </geometry>
      <material
        name="e">
        <color
          rgba="0.898039215686275 0.917647058823529 0.929411764705882 1" />
      </material>
    </visual>
    <collision>
      <origin
        xyz="0 0 0"
        rpy="0 0 0" />
      <geometry>
        <mesh
          filename="package://Hexapod/meshes/Leg_Five_Joint_Two.STL" />
      </geometry>
    </collision>
  </link>
  <joint
    name="Motor_Two_Joint_Five"
    type="fixed">
    <origin
      xyz="0.0505 -0.042 0"
      rpy="0 0 -1.5708" />
    <parent
      link="Leg_Five_Motor_Two" />
    <child
      link="Leg_Five_Joint_Two" />
    <axis
      xyz="0 0 0" />
  </joint>
  <link
    name="Leg_Five_Motor_Three">
    <inertial>
      <origin
        xyz="0.0140840198548827 -0.0198729239878282 8.74251500963819E-06"
        rpy="0 0 0" />
      <mass
        value="0.0507410999571037" />
      <inertia
        ixx="8.72453812867061E-06"
        ixy="2.91404732674265E-07"
        ixz="4.76442069400309E-09"
        iyy="1.36174955983004E-05"
        iyz="4.999763604993E-10"
        izz="1.50547493857863E-05" />
    </inertial>
    <visual>
      <origin
        xyz="0 0 0"
        rpy="0 0 0" />
      <geometry>
        <mesh
          filename="package://Hexapod/meshes/Leg_Five_Motor_Three.STL" />
      </geometry>
      <material
        name="f">
        <color
          rgba="0.501960784313725 0.501960784313725 0.501960784313725 1" />
      </material>
    </visual>
    <collision>
      <origin
        xyz="0 0 0"
        rpy="0 0 0" />
      <geometry>
        <mesh
          filename="package://Hexapod/meshes/Leg_Five_Motor_Three.STL" />
      </geometry>
    </collision>
  </link>
  <joint
    name="Joint_Two_Motor_Five"
    type="revolute">
    <origin
      xyz="0 0.0175 0"
      rpy="3.1416 0 1.5708" />
    <parent
      link="Leg_Five_Joint_Two" />
    <child
      link="Leg_Five_Motor_Three" />
    <axis
      xyz="0 1 0" />
    <limit
      lower="-1.2"
      upper="1.75"
      effort="1.5"
      velocity="6" />
  </joint>
  <link
    name="Leg_Five_Foot">
    <inertial>
      <origin
        xyz="7.0112E-05 0.038827 -0.0070265"
        rpy="0 0 0" />
      <mass
        value="0.029454" />
      <inertia
        ixx="2.3584E-05"
        ixy="1.6941E-21"
        ixz="4.9634E-08"
        iyy="6.3964E-06"
        iyz="8.9608E-06"
        izz="2.045E-05" />
    </inertial>
    <visual>
      <origin
        xyz="0 0 0"
        rpy="0 0 0" />
      <geometry>
        <mesh
          filename="package://Hexapod/meshes/Leg_Five_Foot.STL" />
      </geometry>
      <material
        name="g">
        <color
          rgba="0.89804 0.91765 0.92941 1" />
      </material>
    </visual>
    <collision>
      <origin
        xyz="0 0 0"
        rpy="0 0 0" />
      <geometry>
        <mesh
          filename="package://Hexapod/meshes/Leg_Five_Foot.STL" />
      </geometry>
    </collision>
  </link>
  <joint
    name="Motor_Three_Foot_Five"
    type="fixed">
    <origin
      xyz="0.0415 -0.021 -0.0125"
      rpy="1.5708 0 1.5708" />
    <parent
      link="Leg_Five_Motor_Three" />
    <child
      link="Leg_Five_Foot" />
    <axis
      xyz="0 0 0" />
  </joint>
  <link
    name="Leg_Six_Motor_One">
    <inertial>
      <origin
        xyz="0 0 0"
        rpy="0 0 0" />
      <mass
        value="0" />
      <inertia
        ixx="0"
        ixy="0"
        ixz="0"
        iyy="0"
        iyz="0"
        izz="0" />
    </inertial>
    <visual>
      <origin
        xyz="0 0 0"
        rpy="0 0 0" />
      <geometry>
        <mesh
          filename="package://Hexapod/meshes/Leg_Six_Motor_One.STL" />
      </geometry>
      <material
        name="b">
        <color
          rgba="0.501960784313725 0.501960784313725 0.501960784313725 1" />
      </material>
    </visual>
    <collision>
      <origin
        xyz="0 0 0"
        rpy="0 0 0" />
      <geometry>
        <mesh
          filename="package://Hexapod/meshes/Leg_Six_Motor_One.STL" />
      </geometry>
    </collision>
  </link>
  <joint
    name="Body_Motor_Six"
    type="fixed">
    <origin
      xyz="-0.0432 0.074825 -0.035"
      rpy="1.5708 0 -1.0472" />
    <parent
      link="Hexapod_Body" />
    <child
      link="Leg_Six_Motor_One" />
    <axis
      xyz="0 0 0" />
  </joint>
  <link
    name="Leg_Six_Joint_One">
    <inertial>
      <origin
        xyz="-0.0209999999999994 -0.0274999999999981 -3.40005801291454E-15"
        rpy="0 0 0" />
      <mass
        value="0.0389043786122597" />
      <inertia
        ixx="7.2206746173433E-06"
        ixy="-1.36178818807227E-22"
        ixz="-4.30968939911705E-22"
        iyy="6.0887392947234E-06"
        iyz="0"
        izz="7.2206746173433E-06" />
    </inertial>
    <visual>
      <origin
        xyz="0 0 0"
        rpy="0 0 0" />
      <geometry>
        <mesh
          filename="package://Hexapod/meshes/Leg_Six_Joint_One.STL" />
      </geometry>
      <material
        name="c">
        <color
          rgba="0.898039215686275 0.917647058823529 0.929411764705882 1" />
      </material>
    </visual>
    <collision>
      <origin
        xyz="0 0 0"
        rpy="0 0 0" />
      <geometry>
        <mesh
          filename="package://Hexapod/meshes/Leg_Six_Joint_One.STL" />
      </geometry>
    </collision>
  </link>
  <joint
    name="Motor_One_Joint_Six"
    type="revolute">
    <origin
      xyz="-0.0135 0.037 0"
      rpy="3.1416 0 1.5708" />
    <parent
      link="Leg_Six_Motor_One" />
    <child
      link="Leg_Six_Joint_One" />
    <axis
      xyz="1 0 0" />
    <limit
      lower="-0.87"
      upper="0.87"
      effort="1.5"
      velocity="6" />
  </joint>
  <link
    name="Leg_Six_Motor_Two">
    <inertial>
      <origin
        xyz="0.0140840198548827 -0.0198729239878282 8.74251500965206E-06"
        rpy="0 0 0" />
      <mass
        value="0.0507410999571037" />
      <inertia
        ixx="8.72453812867061E-06"
        ixy="2.91404732674266E-07"
        ixz="4.764420693999E-09"
        iyy="1.36174955983004E-05"
        iyz="4.99976360499839E-10"
        izz="1.50547493857864E-05" />
    </inertial>
    <visual>
      <origin
        xyz="0 0 0"
        rpy="0 0 0" />
      <geometry>
        <mesh
          filename="package://Hexapod/meshes/Leg_Six_Motor_Two.STL" />
      </geometry>
      <material
        name="d">
        <color
          rgba="0.501960784313725 0.501960784313725 0.501960784313725 1" />
      </material>
    </visual>
    <collision>
      <origin
        xyz="0 0 0"
        rpy="0 0 0" />
      <geometry>
        <mesh
          filename="package://Hexapod/meshes/Leg_Six_Motor_Two.STL" />
      </geometry>
    </collision>
  </link>
  <joint
    name="Joint_One_Motor_Six"
    type="revolute">
    <origin
      xyz="-0.021 -0.055 -0.021"
      rpy="-1.5708 0 -1.5708" />
    <parent
      link="Leg_Six_Joint_One" />
    <child
      link="Leg_Six_Motor_Two" />
    <axis
      xyz="0 -1 0" />
    <limit
      lower="-1.75"
      upper="1.75"
      effort="1.5"
      velocity="6" />
  </joint>
  <link
    name="Leg_Six_Joint_Two">
    <inertial>
      <origin
        xyz="-0.0252678246613521 0.00384428347669565 -1.52655665885959E-16"
        rpy="0 0 0" />
      <mass
        value="0.0208734115397715" />
      <inertia
        ixx="4.6637978061464E-06"
        ixy="-2.27640104574593E-21"
        ixz="-5.27351914991464E-22"
        iyy="1.08843805914059E-06"
        iyz="1.97004812269847E-21"
        izz="3.74567124038541E-06" />
    </inertial>
    <visual>
      <origin
        xyz="0 0 0"
        rpy="0 0 0" />
      <geometry>
        <mesh
          filename="package://Hexapod/meshes/Leg_Six_Joint_Two.STL" />
      </geometry>
      <material
        name="e">
        <color
          rgba="0.898039215686275 0.917647058823529 0.929411764705882 1" />
      </material>
    </visual>
    <collision>
      <origin
        xyz="0 0 0"
        rpy="0 0 0" />
      <geometry>
        <mesh
          filename="package://Hexapod/meshes/Leg_Six_Joint_Two.STL" />
      </geometry>
    </collision>
  </link>
  <joint
    name="Motor_Two_Joint_Six"
    type="fixed">
    <origin
      xyz="0.0505 -0.042 0"
      rpy="0 0 -1.5708" />
    <parent
      link="Leg_Six_Motor_Two" />
    <child
      link="Leg_Six_Joint_Two" />
    <axis
      xyz="0 0 0" />
  </joint>
  <link
    name="Leg_Six_Motor_Three">
    <inertial>
      <origin
        xyz="0.0140840198548827 -0.0198729239878282 8.74251500962431E-06"
        rpy="0 0 0" />
      <mass
        value="0.0507410999571036" />
      <inertia
        ixx="8.7245381286706E-06"
        ixy="2.9140473267427E-07"
        ixz="4.76442069400395E-09"
        iyy="1.36174955983004E-05"
        iyz="4.99976360499991E-10"
        izz="1.50547493857863E-05" />
    </inertial>
    <visual>
      <origin
        xyz="0 0 0"
        rpy="0 0 0" />
      <geometry>
        <mesh
          filename="package://Hexapod/meshes/Leg_Six_Motor_Three.STL" />
      </geometry>
      <material
        name="f">
        <color
          rgba="0.501960784313725 0.501960784313725 0.501960784313725 1" />
      </material>
    </visual>
    <collision>
      <origin
        xyz="0 0 0"
        rpy="0 0 0" />
      <geometry>
        <mesh
          filename="package://Hexapod/meshes/Leg_Six_Motor_Three.STL" />
      </geometry>
    </collision>
  </link>
  <joint
    name="Joint_Two_Motor_Six"
    type="revolute">
    <origin
      xyz="0 0.0175 0"
      rpy="3.1416 0 1.5708" />
    <parent
      link="Leg_Six_Joint_Two" />
    <child
      link="Leg_Six_Motor_Three" />
    <axis
      xyz="0 1 0" />
    <limit
      lower="-1.2"
      upper="1.75"
      effort="1.5"
      velocity="6" />
  </joint>
  <link
    name="Leg_Six_Foot">
    <inertial>
      <origin
        xyz="7.0112E-05 0.038827 -0.0070265"
        rpy="0 0 0" />
      <mass
        value="0.029454" />
      <inertia
        ixx="2.3584E-05"
        ixy="1.1011E-20"
        ixz="4.9634E-08"
        iyy="6.3964E-06"
        iyz="8.9608E-06"
        izz="2.045E-05" />
    </inertial>
    <visual>
      <origin
        xyz="0 0 0"
        rpy="0 0 0" />
      <geometry>
        <mesh
          filename="package://Hexapod/meshes/Leg_Six_Foot.STL" />
      </geometry>
      <material
        name="">
        <color
          rgba="0.89804 0.91765 0.92941 1" />
      </material>
    </visual>
    <collision>
      <origin
        xyz="0 0 0"
        rpy="0 0 0" />
      <geometry>
        <mesh
          filename="package://Hexapod/meshes/Leg_Six_Foot.STL" />
      </geometry>
    </collision>
  </link>
  <joint
    name="Motor_Three_Foot_Six"
    type="fixed">
    <origin
      xyz="0.0415 -0.021 -0.0125"
      rpy="1.5708 0 1.5708" />
    <parent
      link="Leg_Six_Motor_Three" />
    <child
      link="Leg_Six_Foot" />
    <axis
      xyz="0 0 0" />
  </joint>
</robot>
